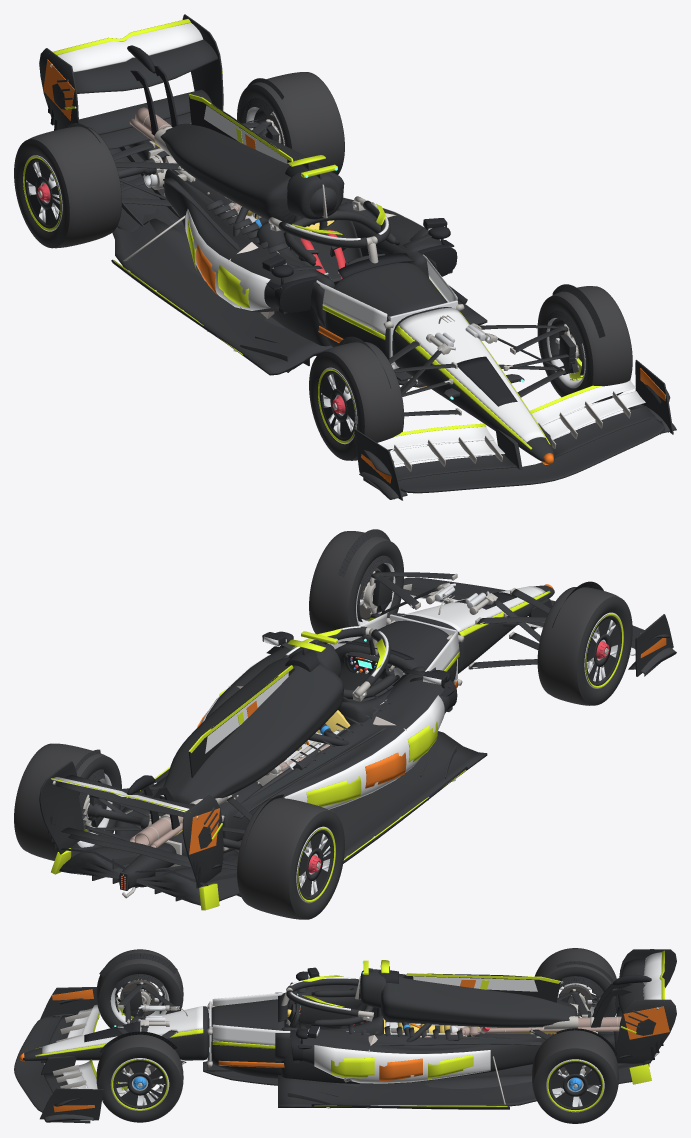
3 renders of one model, top to bottom at view 1: azimuth 30°, elevation 25°; view 2: azimuth 150°, elevation 25°; view 3: azimuth 270°, elevation 25°, orthographic. The views are drawn at different scales.
Visible parts, largest first — view 1: underfloor_venturi__ground_effect_venturi_deck__MAT_CARBON_T, engine_cover__main_canopy_shell__MAT_CARBON_TWILL, wheel_rl__tire_tread__MAT_TIRE_TREAD, front_wing__fw_mainplane_spoon__MAT_CARBON_TWILL, monocoque__monocoque_forward_footwell_tunnel__MAT_CARBON_TWI, wheel_rr__tire_tread__MAT_TIRE_TREAD, nosecone__nose_livery_white_panel__MAT_LIVERY_WHITE, wheel_fl__tire_tread__MAT_TIRE_TREAD, sidepod_left__main_undercut_shell_l__MAT_CARBON_TWILL, wheel_fr__tire_tread__MAT_TIRE_TREAD, rear_wing_drs__spoon_mainplane__MAT_CARBON_TWILL, monocoque__monocoque_open_cockpit_tub__MAT_CARBON_TWILL (+39 smaller); view 2: engine_cover__main_canopy_shell__MAT_CARBON_TWILL, underfloor_venturi__ground_effect_venturi_deck__MAT_CARBON_T, wheel_rl__tire_tread__MAT_TIRE_TREAD, sidepod_left__main_undercut_shell_l__MAT_CARBON_TWILL, wheel_fl__tire_tread__MAT_TIRE_TREAD, wheel_rr__tire_tread__MAT_TIRE_TREAD, wheel_fr__tire_tread__MAT_TIRE_TREAD, monocoque__monocoque_forward_footwell_tunnel__MAT_CARBON_TWI, diffuser_rear__twin_expansion_tunnel_shell__MAT_CARBON_TWILL, sidepod_left__livery_white_flank_band_l__MAT_LIVERY_WHITE, wheel_fl__tire_sidewall__MAT_TIRE_SIDEWALL, wheel_rl__tire_sidewall__MAT_TIRE_SIDEWALL (+31 smaller); view 3: engine_cover__main_canopy_shell__MAT_CARBON_TWILL, underfloor_venturi__ground_effect_venturi_deck__MAT_CARBON_T, sidepod_right__main_undercut_shell_r__MAT_CARBON_TWILL, monocoque__monocoque_forward_footwell_tunnel__MAT_CARBON_TWI, sidepod_right__livery_white_flank_band_r__MAT_LIVERY_WHITE, wheel_rr__tire_sidewall__MAT_TIRE_SIDEWALL, wheel_fr__tire_sidewall__MAT_TIRE_SIDEWALL, rear_wing_drs__sculpted_rear_endplate_right__MAT_CARBON_TWIL, monocoque__monocoque_open_cockpit_tub__MAT_CARBON_TWILL, front_wing__fw_mainplane_spoon__MAT_CARBON_TWILL, wheel_fl__tire_sidewall__MAT_TIRE_SIDEWALL, wheel_rr__tire_tread__MAT_TIRE_TREAD (+61 smaller).
Part boxes in pixels (x1,y1,x2,y2): underfloor_venturi__ground_effect_venturi_deck__MAT_CARBON_T: (112, 208, 487, 375); engine_cover__main_canopy_shell__MAT_CARBON_TWILL: (160, 123, 344, 226); wheel_rl__tire_tread__MAT_TIRE_TREAD: (28, 126, 121, 248); front_wing__fw_mainplane_spoon__MAT_CARBON_TWILL: (398, 418, 664, 493); monocoque__monocoque_forward_footwell_tunnel__MAT_CARBON_TWI: (325, 262, 447, 369); wheel_rr__tire_tread__MAT_TIRE_TREAD: (251, 72, 344, 174); nosecone__nose_livery_white_panel__MAT_LIVERY_WHITE: (398, 308, 545, 442); wheel_fl__tire_tread__MAT_TIRE_TREAD: (323, 342, 403, 460); sidepod_left__main_undercut_shell_l__MAT_CARBON_TWILL: (164, 169, 317, 312); wheel_fr__tire_tread__MAT_TIRE_TREAD: (551, 286, 632, 403); rear_wing_drs__spoon_mainplane__MAT_CARBON_TWILL: (73, 39, 218, 93); monocoque__monocoque_open_cockpit_tub__MAT_CARBON_TWILL: (256, 202, 428, 346); engine_cover__main_canopy_shell__MAT_CARBON_TWILL: (159, 657, 344, 805); underfloor_venturi__ground_effect_venturi_deck__MAT_CARBON_T: (115, 731, 487, 896); wheel_rl__tire_tread__MAT_TIRE_TREAD: (237, 798, 330, 919); sidepod_left__main_undercut_shell_l__MAT_CARBON_TWILL: (223, 674, 449, 841); wheel_fl__tire_tread__MAT_TIRE_TREAD: (537, 587, 618, 705); wheel_rr__tire_tread__MAT_TIRE_TREAD: (14, 743, 107, 860); wheel_fr__tire_tread__MAT_TIRE_TREAD: (309, 531, 390, 634); monocoque__monocoque_forward_footwell_tunnel__MAT_CARBON_TWI: (335, 620, 456, 701); diffuser_rear__twin_expansion_tunnel_shell__MAT_CARBON_TWILL: (59, 847, 239, 905); sidepod_left__livery_white_flank_band_l__MAT_LIVERY_WHITE: (284, 695, 444, 809); wheel_fl__tire_sidewall__MAT_TIRE_SIDEWALL: (537, 587, 632, 705); wheel_rl__tire_sidewall__MAT_TIRE_SIDEWALL: (237, 798, 344, 919); engine_cover__main_canopy_shell__MAT_CARBON_TWILL: (381, 973, 577, 1027); underfloor_venturi__ground_effect_venturi_deck__MAT_CARBON_T: (278, 1064, 556, 1107); sidepod_right__main_undercut_shell_r__MAT_CARBON_TWILL: (296, 1028, 545, 1083); monocoque__monocoque_forward_footwell_tunnel__MAT_CARBON_TWI: (211, 999, 284, 1078); sidepod_right__livery_white_flank_band_r__MAT_LIVERY_WHITE: (314, 1045, 490, 1083); wheel_rr__tire_sidewall__MAT_TIRE_SIDEWALL: (533, 1033, 616, 1123); wheel_fr__tire_sidewall__MAT_TIRE_SIDEWALL: (98, 1047, 181, 1122); rear_wing_drs__sculpted_rear_endplate_right__MAT_CARBON_TWIL: (615, 999, 676, 1063); monocoque__monocoque_open_cockpit_tub__MAT_CARBON_TWILL: (281, 992, 383, 1083); front_wing__fw_mainplane_spoon__MAT_CARBON_TWILL: (14, 1016, 61, 1112); wheel_fl__tire_sidewall__MAT_TIRE_SIDEWALL: (98, 949, 181, 1027); wheel_rr__tire_tread__MAT_TIRE_TREAD: (532, 1030, 618, 1099).
Size of the model in its own units: 2.09 by 0.9922 by 5.48.
